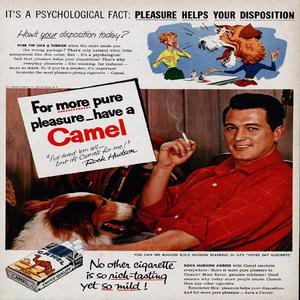cigarette: (179, 130, 192, 152)
